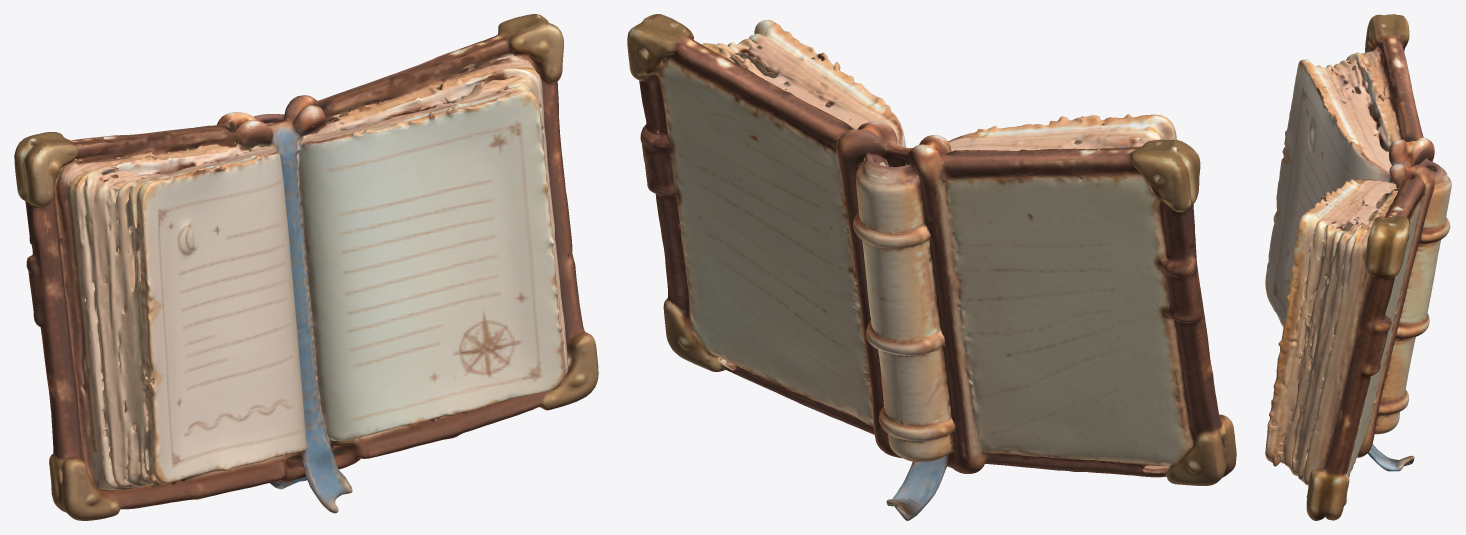
File: D2_航海日志_v2.glb
The picture shows the model from 3 angles, left to right: view 1: azimuth 30°, elevation 25°; view 2: azimuth 150°, elevation 25°; view 3: azimuth 270°, elevation 25°; orthographic projection. The views are drawn at different scales.
Parts seen in each view (by area): view 1: D2_航海日志; view 2: D2_航海日志; view 3: D2_航海日志.
Boxes of the visible parts, left/top/right/bottom form: D2_航海日志: left=14, top=14, right=598, bottom=520; D2_航海日志: left=627, top=14, right=1236, bottom=520; D2_航海日志: left=1265, top=14, right=1451, bottom=520.
Size of the model in its own units: 0.2992 by 0.22 by 0.1059.
1 material, 1 textured.
